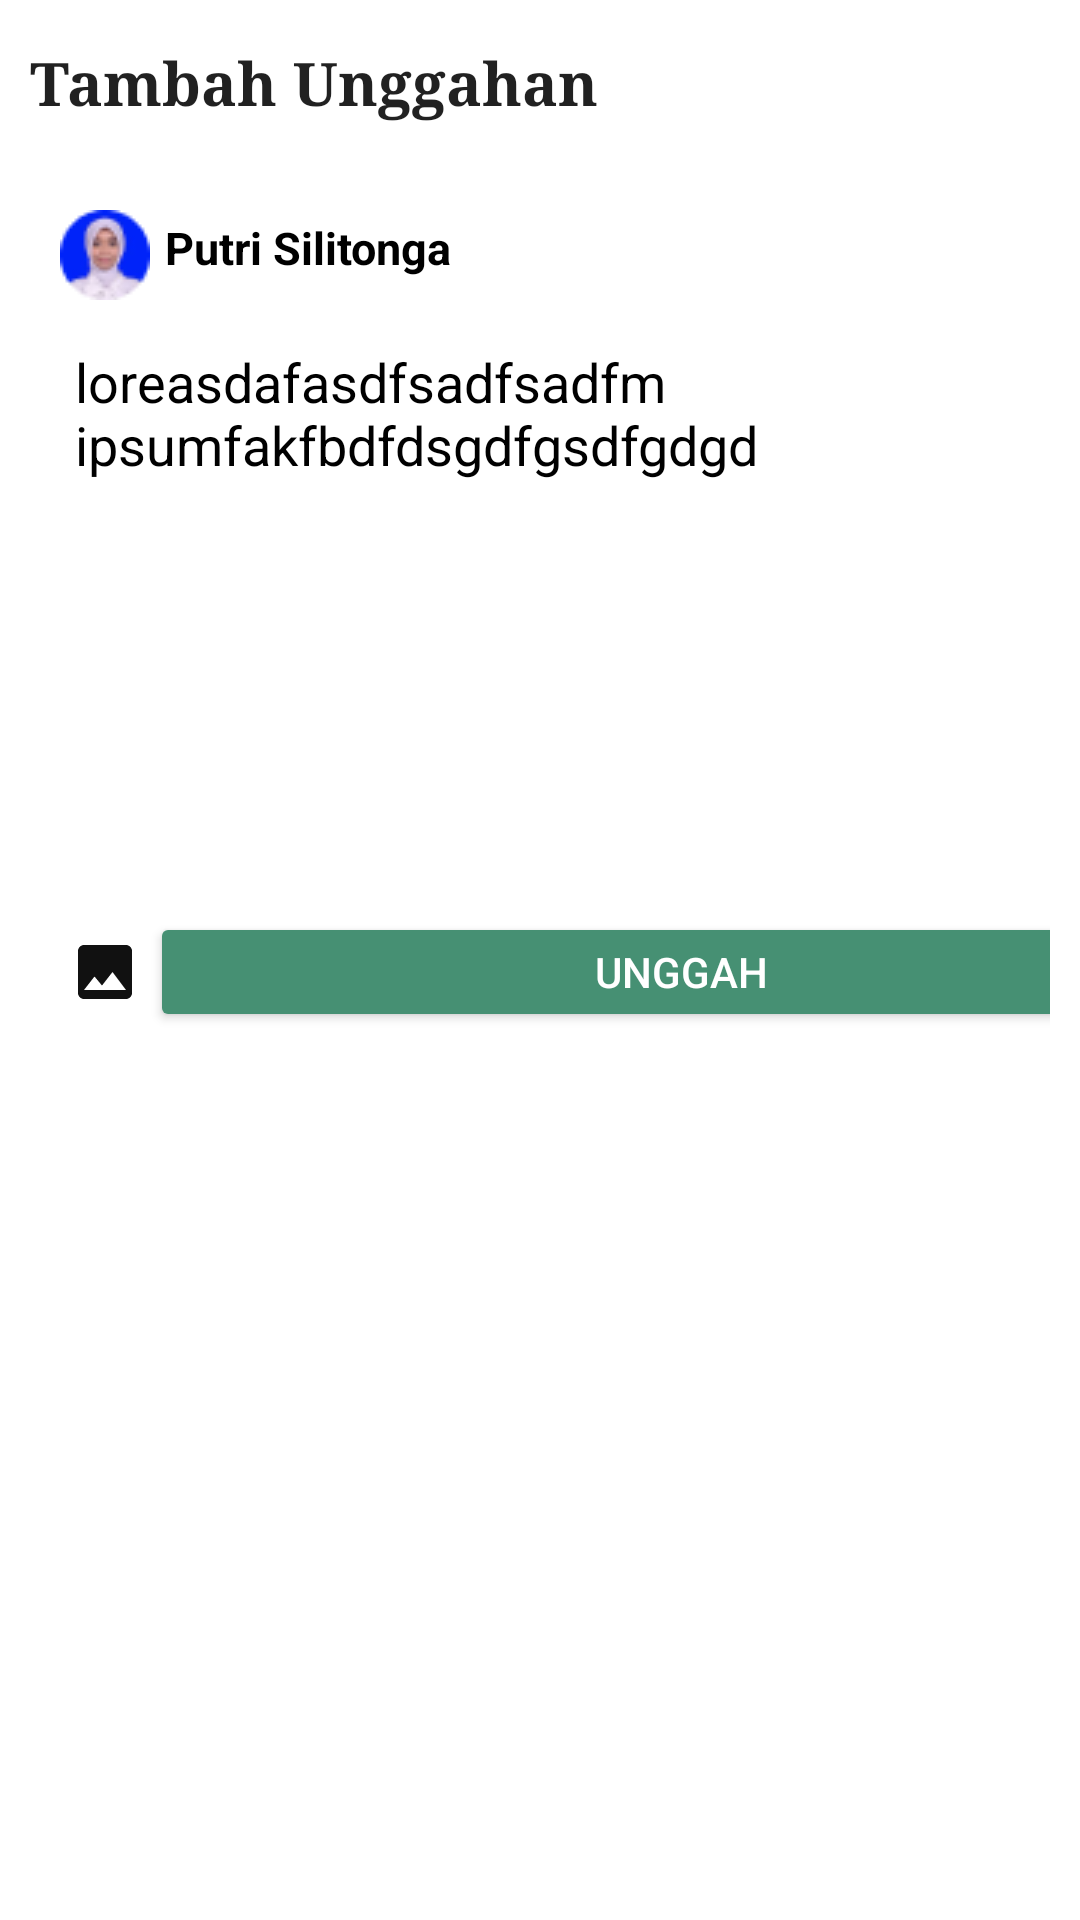

Named icons in this screenshot (1080 x 1920) and their centers, point (x, y):
foto profil: point (105, 255)
